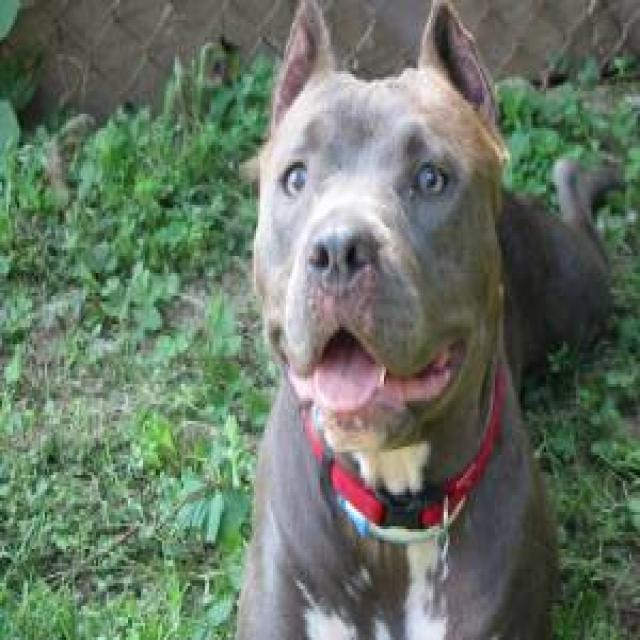dog-american_pit_bull_terrier: (226, 3, 621, 634)
